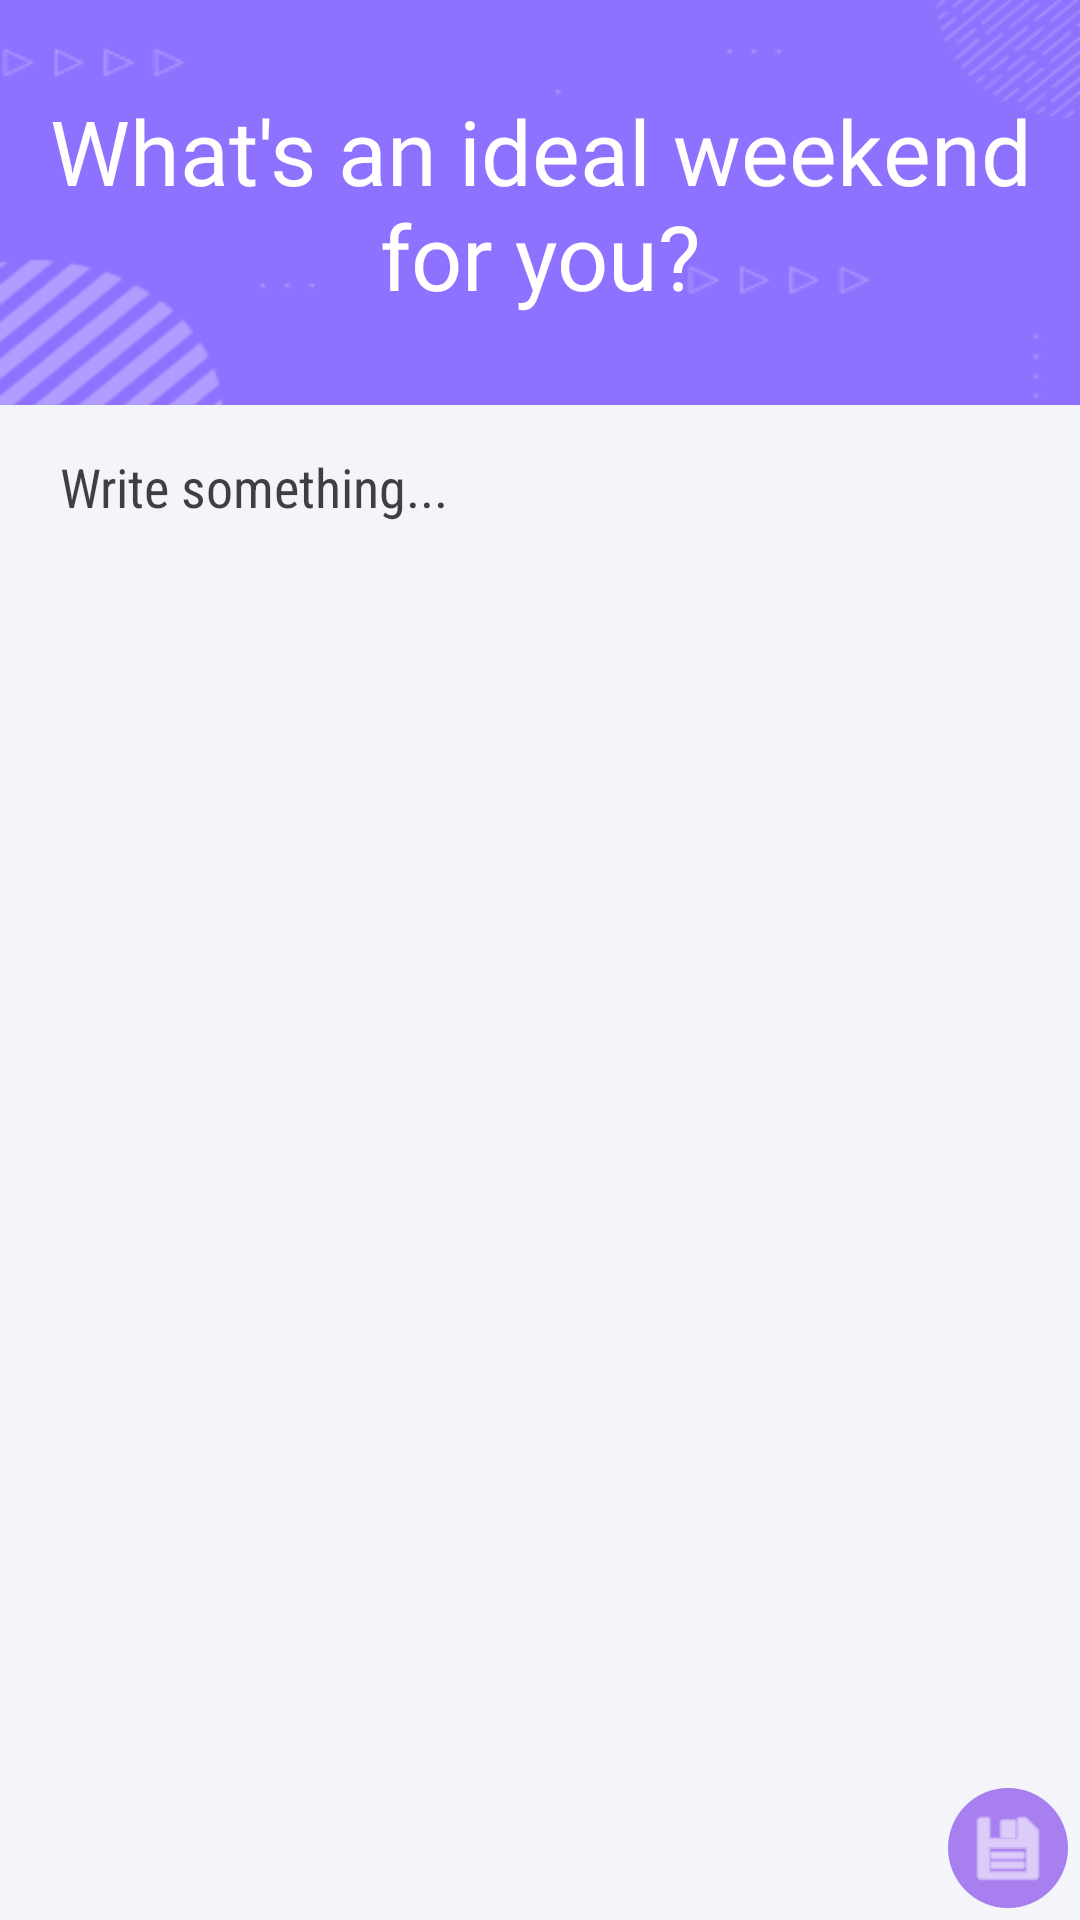

Point at icon controls on the screen. Image size 1080px×1920px, points as (x,y).
save: (1008,1848)
